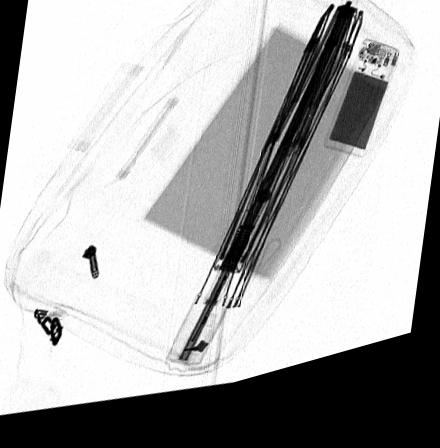Powerbank: (323, 57, 403, 177)
